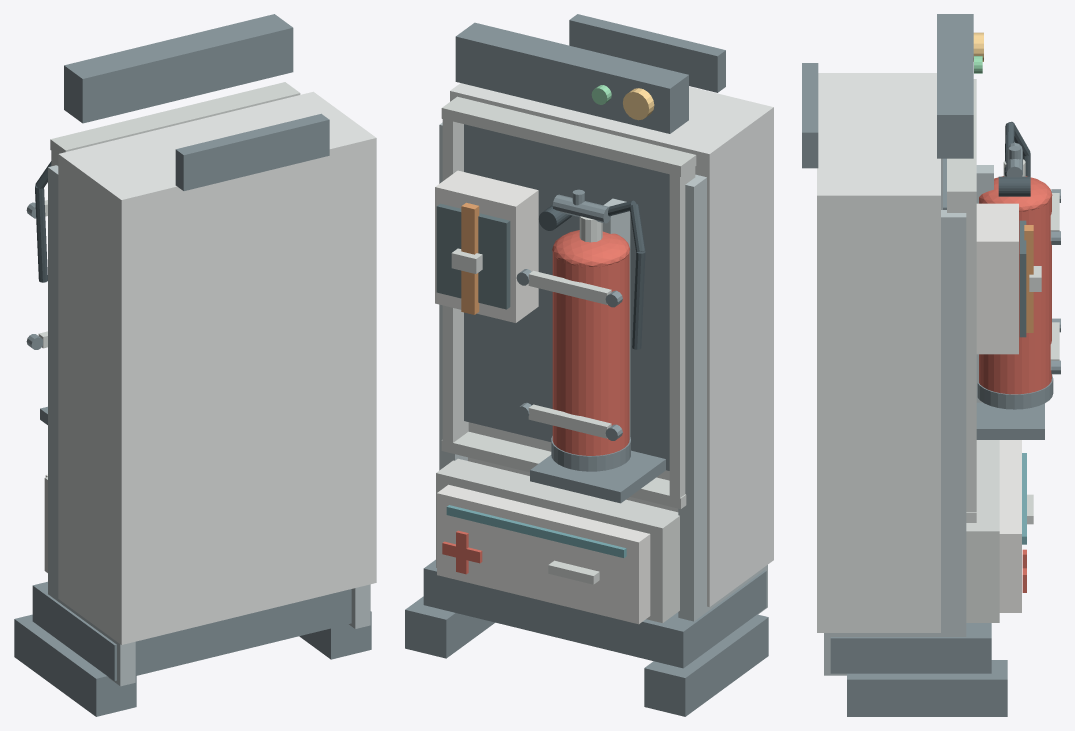
Rendered from fire_safety_station.glb.
3 renders of one model, left to right at view 1: azimuth 30°, elevation 25°; view 2: azimuth 150°, elevation 25°; view 3: azimuth 270°, elevation 25°, orthographic. The views are drawn at different scales.
Visible parts, largest first — view 1: shell_white_ceramic, top_status_dark_alloy, chassis_dark_alloy, floor_mount_dark_alloy, wall_anchors_dark_alloy, chassis_alloy, frame_satin_steel, extinguisher_hose_black_rubber; view 2: shell_white_ceramic, front_recess_dark_alloy, frame_satin_steel, first_aid_drawer_white_painted, extinguisher_safety_red, top_status_dark_alloy, chassis_dark_alloy, chassis_alloy, floor_mount_dark_alloy, pedestal_warm_panel, blanket_case_white_painted, wall_anchors_dark_alloy (+14 smaller); view 3: shell_white_ceramic, chassis_alloy, floor_mount_dark_alloy, extinguisher_safety_red, blanket_case_white_painted, chassis_dark_alloy, pedestal_warm_panel, frame_satin_steel, top_status_dark_alloy, first_aid_drawer_white_painted, extinguisher_cradle_dark_alloy, wall_anchors_dark_alloy (+9 smaller).
Boxes of the visible parts, x1,y1,x2,y2 form: shell_white_ceramic: (58,91,376,644); top_status_dark_alloy: (64,14,293,123); chassis_dark_alloy: (32,581,351,681); floor_mount_dark_alloy: (14,611,371,716); wall_anchors_dark_alloy: (175,113,329,190); chassis_alloy: (48,165,370,686); frame_satin_steel: (50,82,300,166); extinguisher_hose_black_rubber: (35,161,51,282); shell_white_ceramic: (450,83,773,606); front_recess_dark_alloy: (464,124,669,470); frame_satin_steel: (441,96,696,509); first_aid_drawer_white_painted: (437,484,650,624); extinguisher_safety_red: (552,230,629,455); top_status_dark_alloy: (455,22,688,133); chassis_dark_alloy: (423,559,766,668); chassis_alloy: (439,122,767,621); floor_mount_dark_alloy: (405,596,768,716); pedestal_warm_panel: (436,458,679,623); blanket_case_white_painted: (435,170,538,322); wall_anchors_dark_alloy: (569,14,725,92); shell_white_ceramic: (817,73,940,632); chassis_alloy: (824,158,966,675); floor_mount_dark_alloy: (847,660,1007,716); extinguisher_safety_red: (979,176,1052,394); blanket_case_white_painted: (976,203,1018,354); chassis_dark_alloy: (830,623,991,673); pedestal_warm_panel: (966,440,999,622); frame_satin_steel: (947,79,976,522); top_status_dark_alloy: (937,14,973,158); first_aid_drawer_white_painted: (999,440,1021,612); extinguisher_cradle_dark_alloy: (976,402,1044,439); wall_anchors_dark_alloy: (802,63,818,168).
Size of the model in its own units: 0.68 by 1.41 by 0.563.
